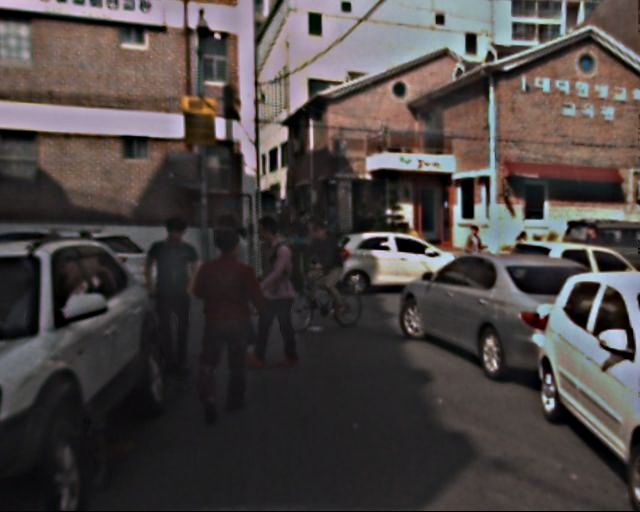person: (186, 232, 265, 415), (139, 217, 212, 380), (197, 215, 265, 364), (240, 217, 303, 369), (301, 219, 345, 320), (462, 226, 489, 292)
